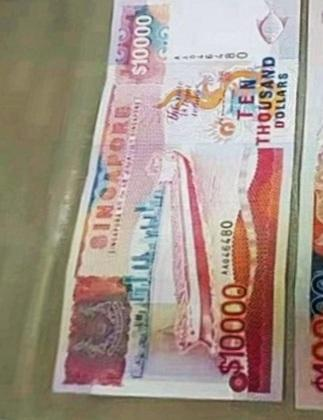10000SingaporeDollar: (71, 0, 293, 397)
